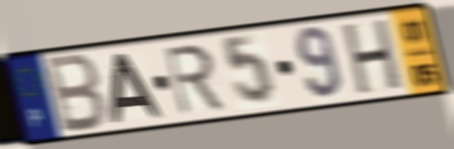5: (217, 31, 281, 111)
9: (292, 23, 345, 104)
A: (109, 52, 167, 125)
B: (44, 51, 109, 136)
H: (341, 16, 405, 99)
R: (161, 41, 228, 118)
